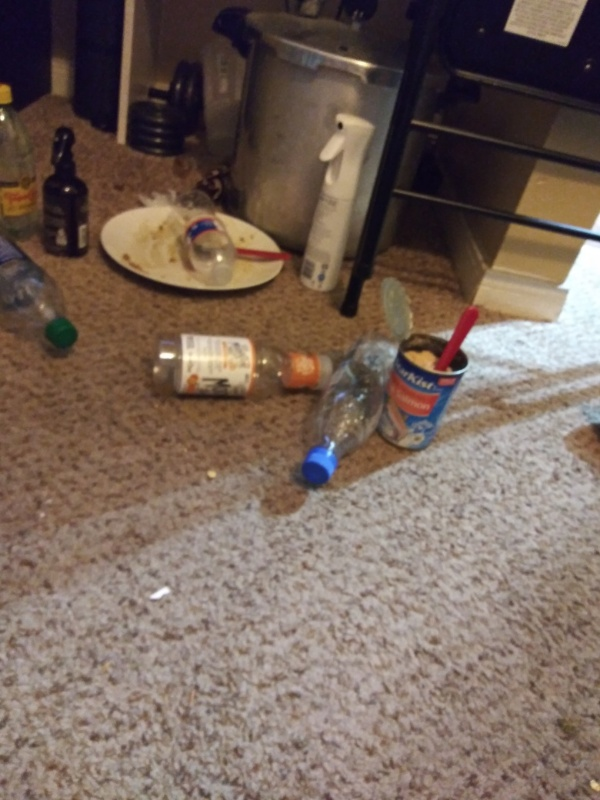bottle: (296, 330, 410, 493), (147, 326, 338, 407), (1, 223, 88, 356), (164, 186, 240, 287), (1, 81, 39, 237)
